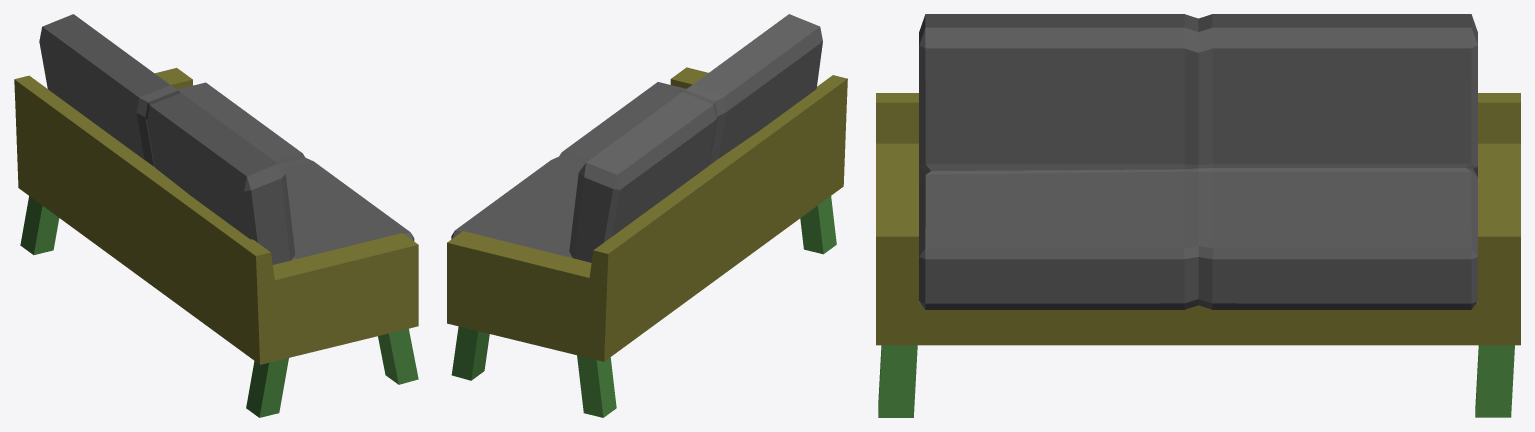
Rendered from Livingroom2_Sofa.fbx.
3 renders of one model, left to right at view 1: azimuth 30°, elevation 25°; view 2: azimuth 150°, elevation 25°; view 3: azimuth 270°, elevation 25°, orthographic. The views are drawn at different scales.
Parts seen in each view (by area): view 1: Livingroom2_Sofa; view 2: Livingroom2_Sofa; view 3: Livingroom2_Sofa.
Part boxes in pixels (x1,y1,x2,y2): Livingroom2_Sofa: (14,14,418,417); Livingroom2_Sofa: (447,14,847,417); Livingroom2_Sofa: (876,14,1520,417).
Bounding box in the file's own units: 121 × 155 × 288.
